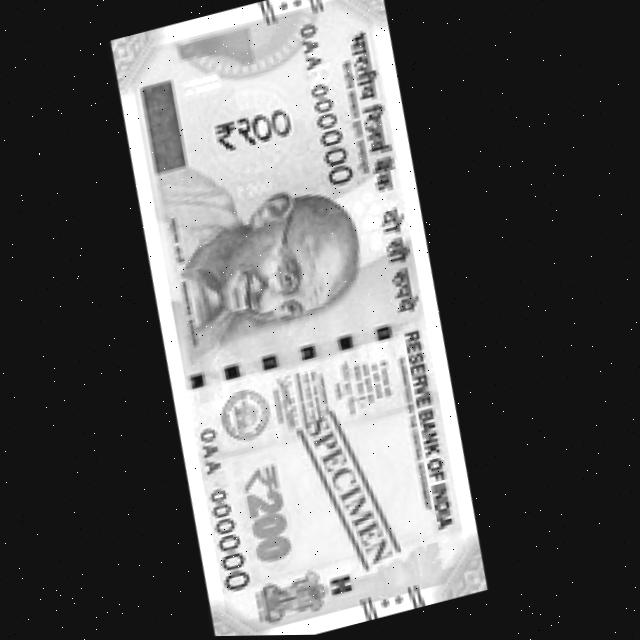banknote: (75, 0, 532, 639)
